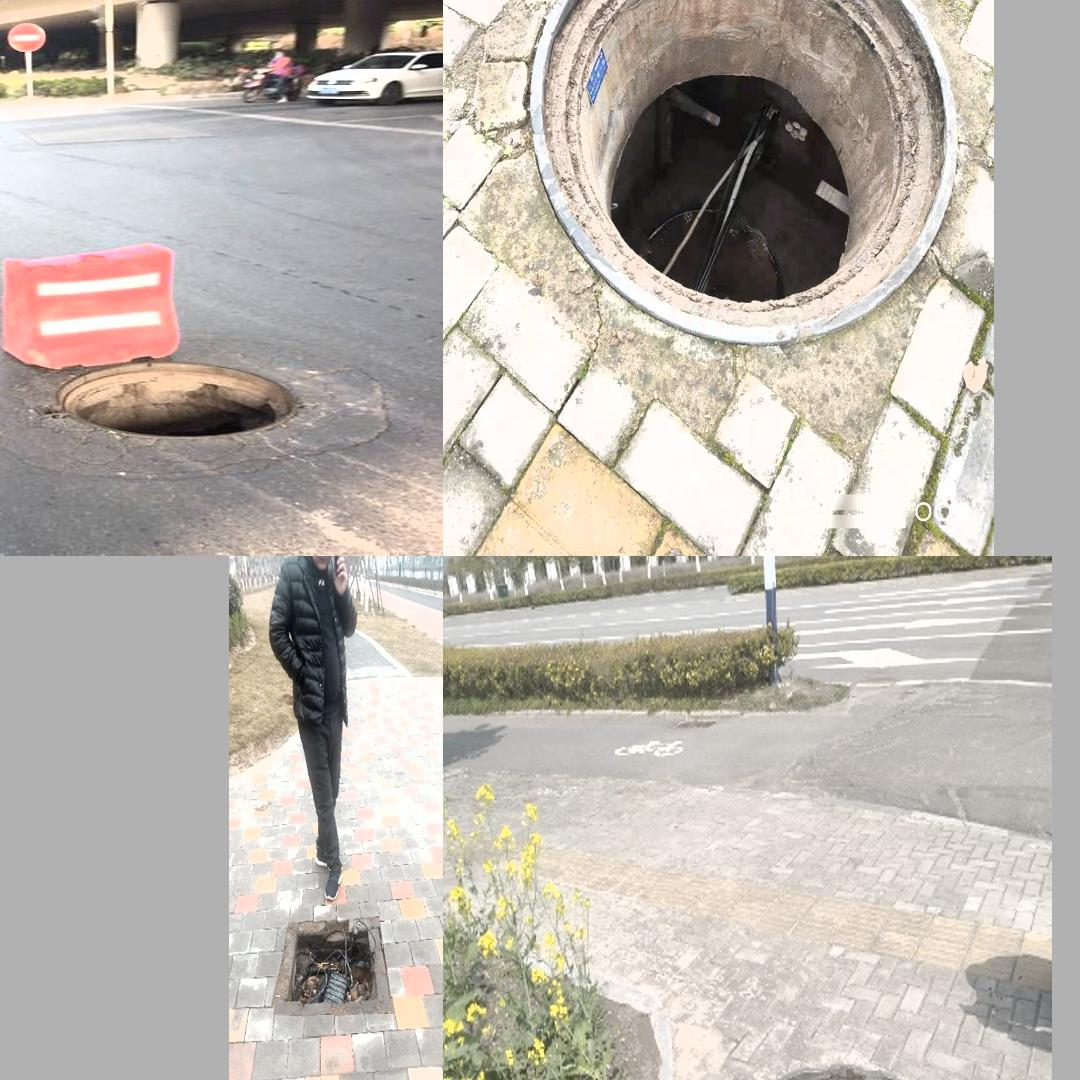lose: (528, 0, 961, 350), (0, 330, 381, 492), (285, 928, 381, 1003), (735, 1064, 957, 1080)
